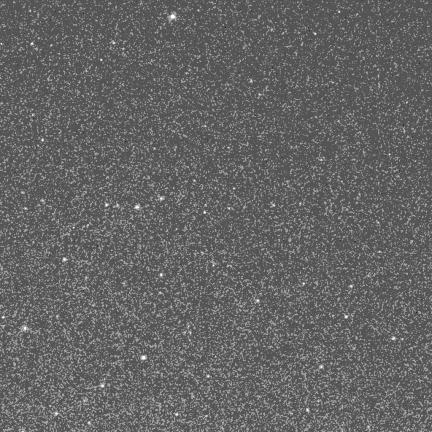blob: (141, 355, 147, 360), (170, 14, 175, 19), (255, 299, 260, 304), (135, 204, 140, 209), (105, 203, 109, 208), (63, 257, 67, 262), (306, 408, 310, 413), (392, 336, 396, 340), (160, 197, 164, 201), (30, 43, 35, 46), (204, 211, 207, 215), (160, 273, 163, 277), (41, 138, 44, 142), (303, 282, 306, 286), (207, 375, 211, 378), (320, 365, 323, 369), (175, 413, 178, 416), (345, 315, 348, 318), (101, 384, 104, 387), (55, 412, 58, 415)
